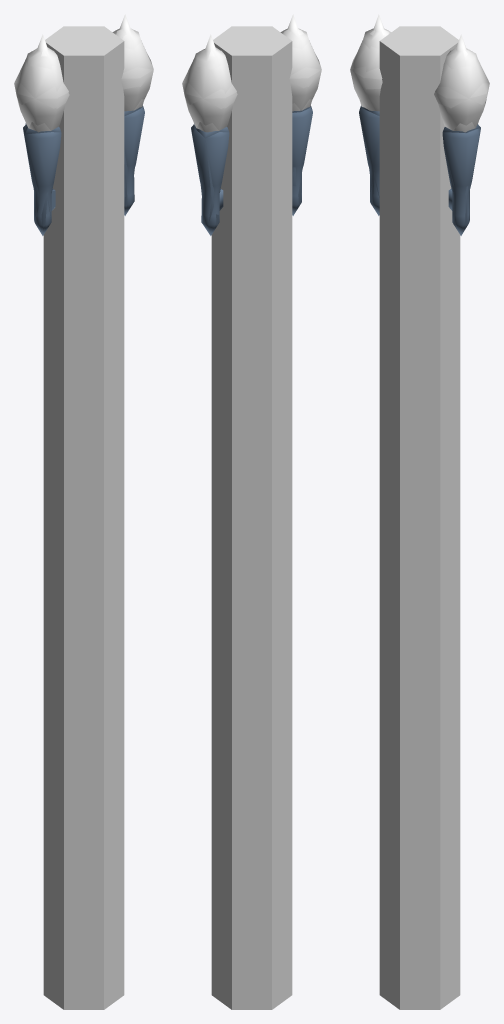
File: lamp1.dae
3 renders of one model, left to right at view 1: azimuth 30°, elevation 25°; view 2: azimuth 210°, elevation 25°; view 3: azimuth 330°, elevation 25°, orthographic.
Parts seen in each view (by area): view 1: Colmesh-1, lamp1_a400, lamp1_a100; view 2: Colmesh-1, lamp1_a400, lamp1_a100; view 3: Colmesh-1, lamp1_a400, lamp1_a100.
Boxes of the visible parts, left/top/right/bottom form: Colmesh-1: left=43, top=26, right=124, bottom=1009; lamp1_a400: left=14, top=14, right=153, bottom=235; lamp1_a100: left=14, top=18, right=153, bottom=235; Colmesh-1: left=211, top=26, right=292, bottom=1009; lamp1_a400: left=182, top=14, right=321, bottom=235; lamp1_a100: left=182, top=29, right=321, bottom=234; Colmesh-1: left=379, top=26, right=460, bottom=1009; lamp1_a400: left=350, top=14, right=489, bottom=235; lamp1_a100: left=350, top=16, right=489, bottom=235.
Size of the model in its own units: 1.2 by 0.6228 by 8.28.
